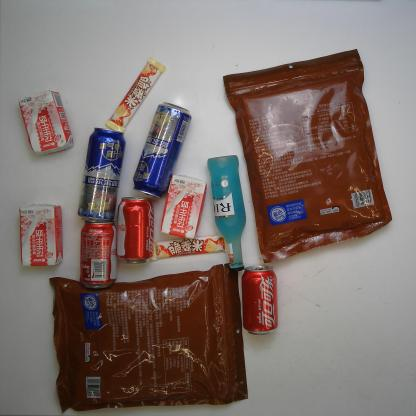Alcohol: (130, 97, 196, 201), (204, 152, 249, 272), (79, 125, 124, 223)
Chocolate: (104, 53, 167, 136), (151, 235, 223, 258)
Dried Food: (222, 49, 390, 262), (48, 259, 251, 412)
Drink: (113, 192, 159, 269), (237, 262, 280, 337), (78, 216, 119, 293)
Milk: (18, 88, 75, 160), (158, 168, 206, 240), (18, 197, 65, 267)
